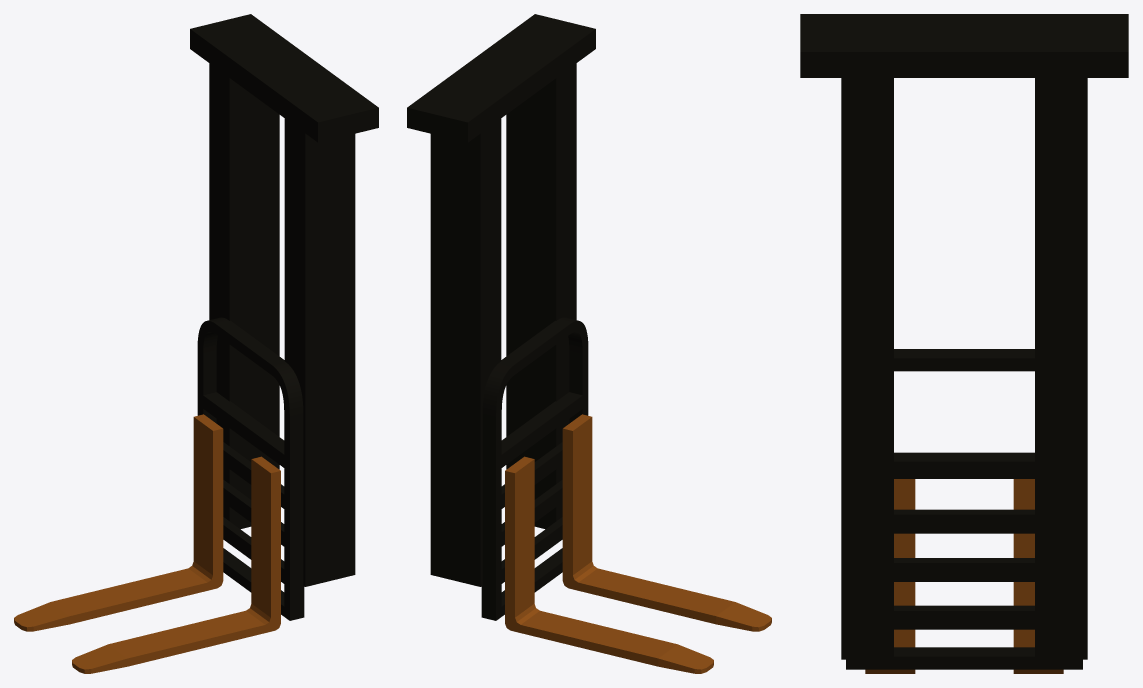
Rendered from fork_part.obj.
3 renders of one model, left to right at view 1: azimuth 30°, elevation 25°; view 2: azimuth 150°, elevation 25°; view 3: azimuth 270°, elevation 25°, orthographic. The views are drawn at different scales.
Parts seen in each view (by area): view 1: Cube.9_other_mat, Cube.9_fork_mat; view 2: Cube.9_other_mat, Cube.9_fork_mat; view 3: Cube.9_other_mat, Cube.9_fork_mat.
Boxes of the visible parts, left/top/right/bottom form: Cube.9_other_mat: left=190, top=14, right=378, bottom=620; Cube.9_fork_mat: left=14, top=414, right=280, bottom=673; Cube.9_other_mat: left=407, top=14, right=595, bottom=620; Cube.9_fork_mat: left=505, top=414, right=771, bottom=673; Cube.9_other_mat: left=800, top=14, right=1128, bottom=669; Cube.9_fork_mat: left=865, top=479, right=1063, bottom=673.
Bounding box in the file's own units: 24.11 × 44.97 × 19.96.
